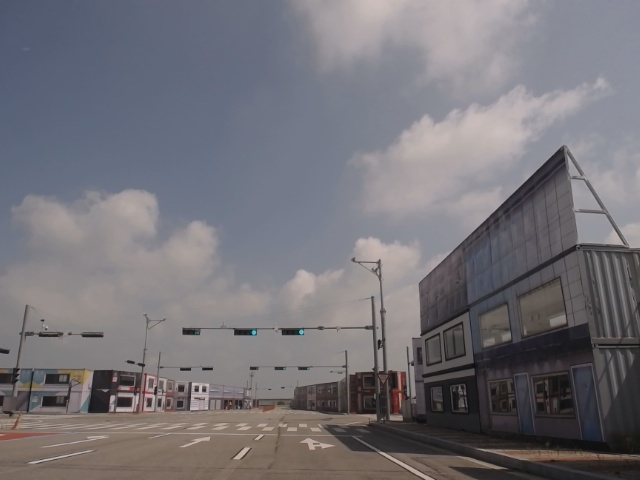straight_green_4: (281, 328, 306, 336), (234, 328, 258, 336)
